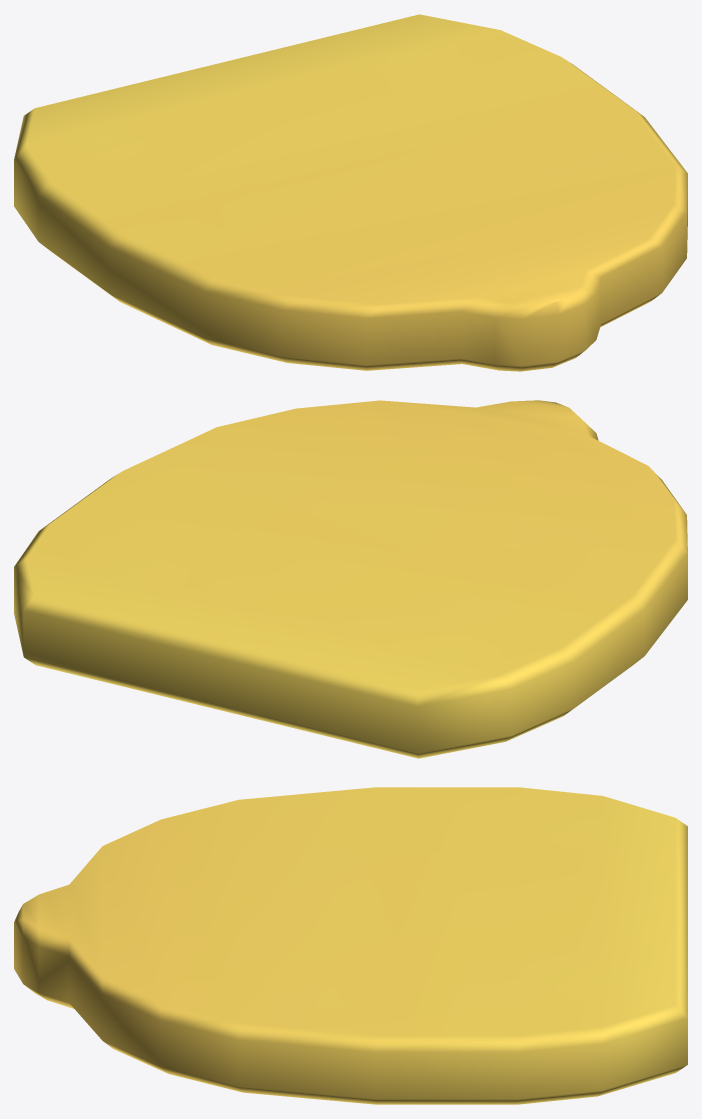
The model's file is Homestead_nm_21_1.fbx.
3 views of the same model, one above another, from view 1: azimuth 30°, elevation 25°; view 2: azimuth 150°, elevation 25°; view 3: azimuth 270°, elevation 25° (orthographic).
Visible parts, largest first — view 1: Homestead_nm_21_1; view 2: Homestead_nm_21_1; view 3: Homestead_nm_21_1.
Boxes of the visible parts, x1,y1,x2,y2 form: Homestead_nm_21_1: (14, 14, 687, 371); Homestead_nm_21_1: (14, 400, 687, 758); Homestead_nm_21_1: (14, 787, 687, 1104).
Bounding box in the file's own units: 94.26 × 11.53 × 103.
